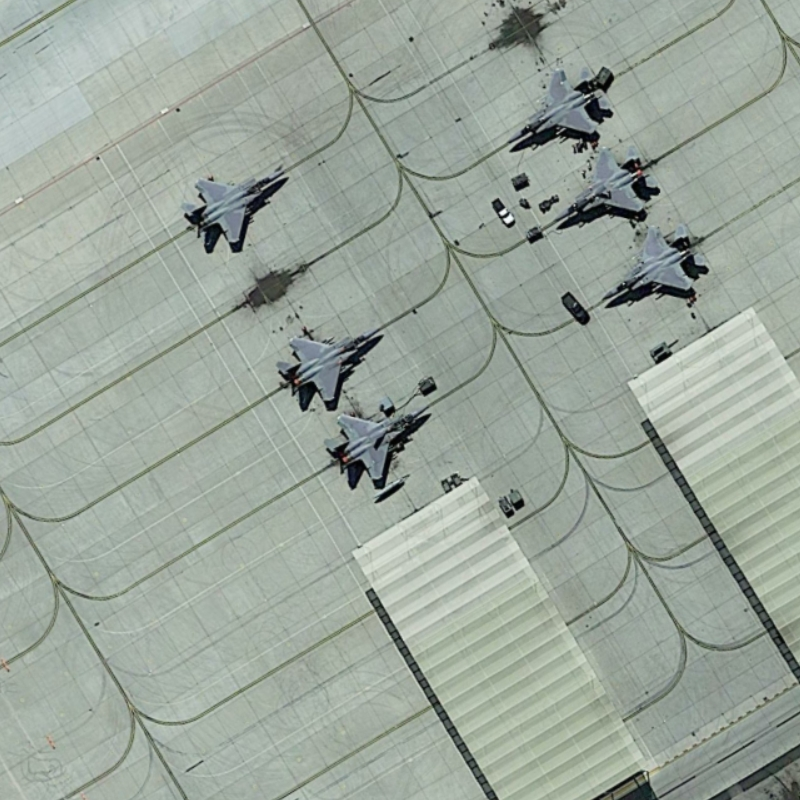A13: (575, 216, 710, 316), (537, 144, 661, 242), (313, 405, 437, 498), (266, 320, 387, 414), (171, 160, 293, 253), (499, 62, 618, 151)
